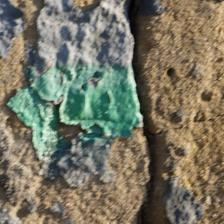Crack: (59, 1, 124, 223)
